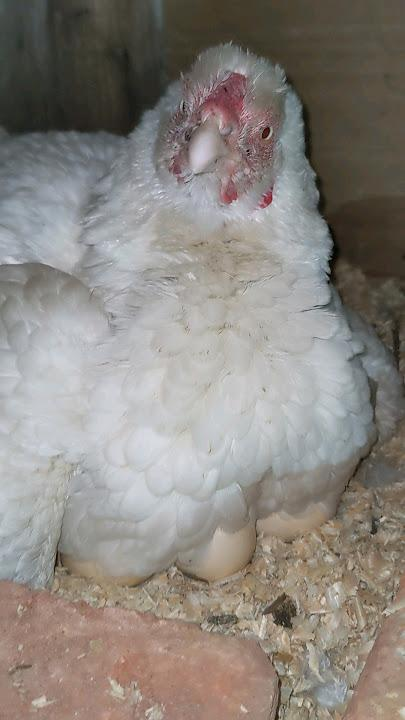AbNormal: (0, 39, 400, 589)
